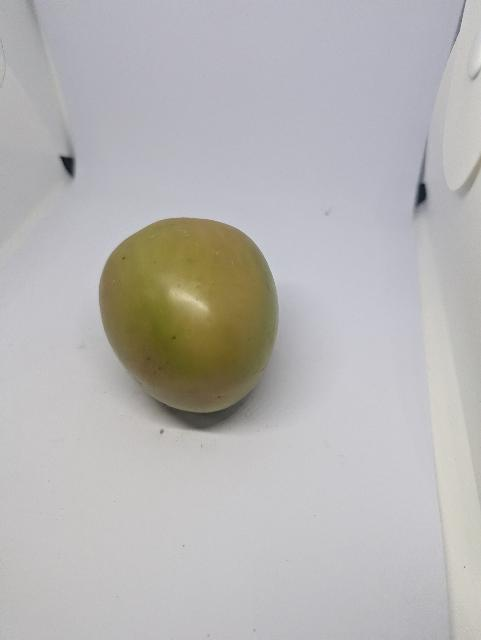breaker: (95, 212, 284, 420)
